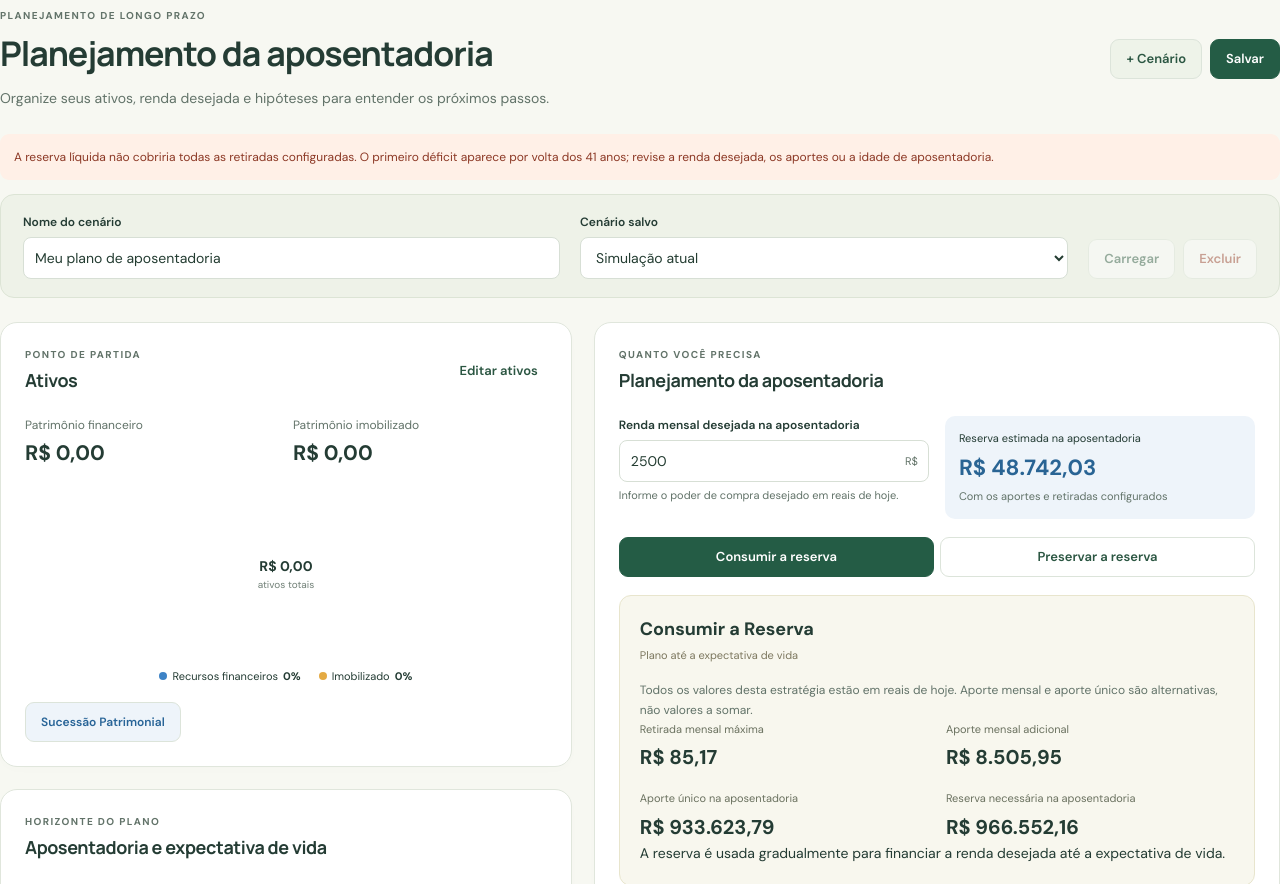
it: does not report saved when local storage rejects the write
The image size is (1280, 884).
Click the button "Salvar": point(1245, 59) [1210,39,1279,79]
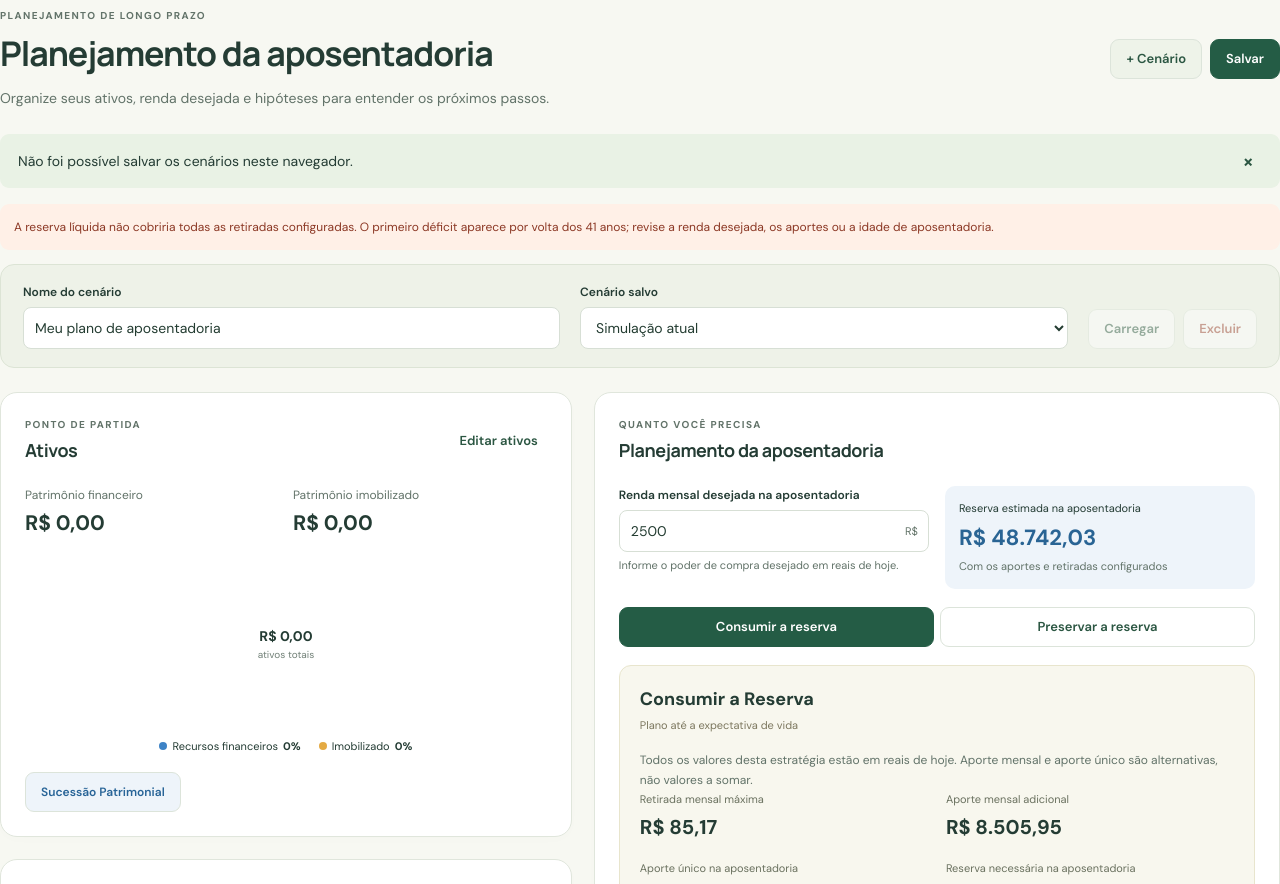
Result: the text "Não foi possível salvar os cenários neste navegador." is shown at [18,151,353,172]
